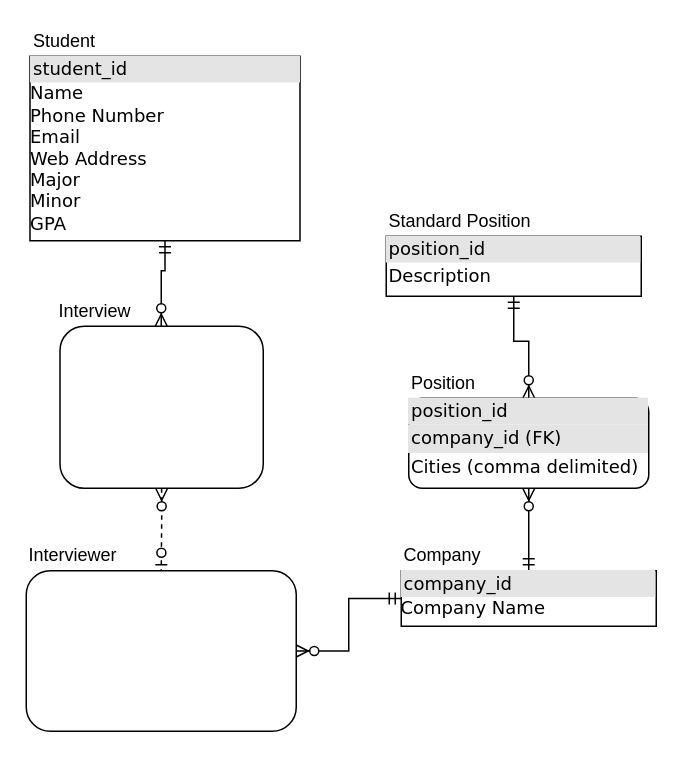
This 698x758 diagram has some shape labels left out. Here are the shapes that lost their labels. From the top down, the centre of each, then its label:
At point 160,406: "interview_id student_id (FK) interviewer_id (FK) Date Time Location".
At point 160,650: "interviewer_id company_id (FK) Name Phone Email Web Address".
